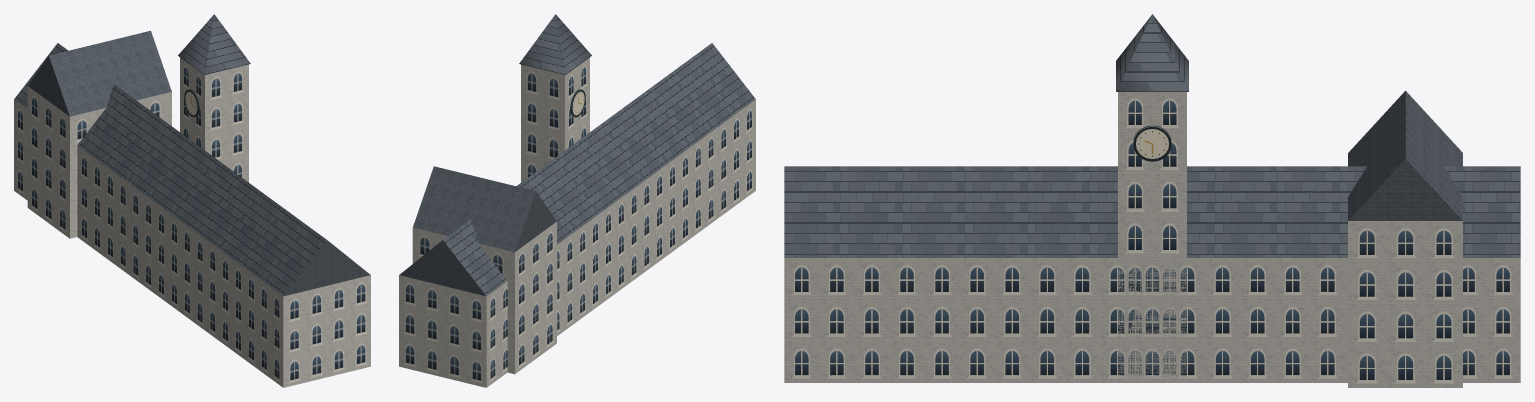
File: station.obj
3 renders of one model, left to right at view 1: azimuth 30°, elevation 25°; view 2: azimuth 150°, elevation 25°; view 3: azimuth 270°, elevation 25°, orthographic. The views are drawn at different scales.
Parts seen in each view (by area): view 1: part1, part2, part8, part7, part3, part6, part4.nocast; view 2: part1, part2, part8, part7, part3, part6, part4.nocast; view 3: part1, part2, part7, part3, part8, part6, part5.nocast.
Part boxes in pixels (bbox=[...]): part1: bbox=[14, 99, 370, 387]; part2: bbox=[14, 43, 370, 296]; part8: bbox=[28, 30, 171, 116]; part7: bbox=[27, 86, 171, 238]; part3: bbox=[180, 57, 248, 182]; part6: bbox=[178, 14, 250, 75]; part4.nocast: bbox=[184, 89, 199, 117]; part1: bbox=[399, 99, 755, 387]; part2: bbox=[399, 43, 755, 296]; part8: bbox=[413, 166, 556, 252]; part7: bbox=[412, 222, 556, 374]; part3: bbox=[521, 57, 589, 182]; part6: bbox=[519, 14, 591, 75]; part4.nocast: bbox=[570, 89, 585, 117]; part1: bbox=[784, 258, 1520, 382]; part2: bbox=[784, 166, 1520, 257]; part7: bbox=[1348, 221, 1462, 387]; part3: bbox=[1118, 92, 1186, 382]; part8: bbox=[1348, 90, 1462, 220]; part6: bbox=[1116, 14, 1188, 91]; part5.nocast: bbox=[1133, 125, 1171, 161].
Bounding box in the file's own units: 14 × 34 × 64.
4 materials, 3 textured.
